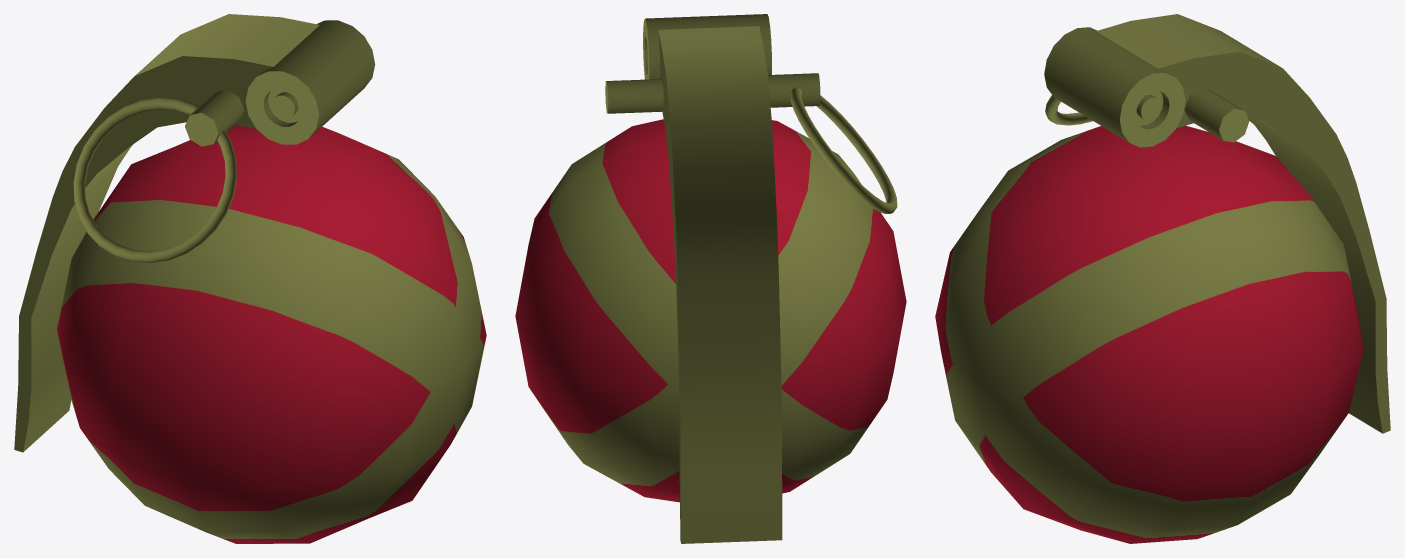
File: PRMC_Granada.FBX
3 renders of one model, left to right at view 1: azimuth 30°, elevation 25°; view 2: azimuth 150°, elevation 25°; view 3: azimuth 270°, elevation 25°, orthographic. The views are drawn at different scales.
Visible parts, largest first — view 1: PRMC_Granada; view 2: PRMC_Granada; view 3: PRMC_Granada.
Boxes of the visible parts, bbox=[...] form: PRMC_Granada: bbox=[14, 14, 486, 543]; PRMC_Granada: bbox=[515, 14, 906, 543]; PRMC_Granada: bbox=[935, 14, 1390, 543].
Size of the model in its own units: 0.7325 by 0.9042 by 0.7741.
